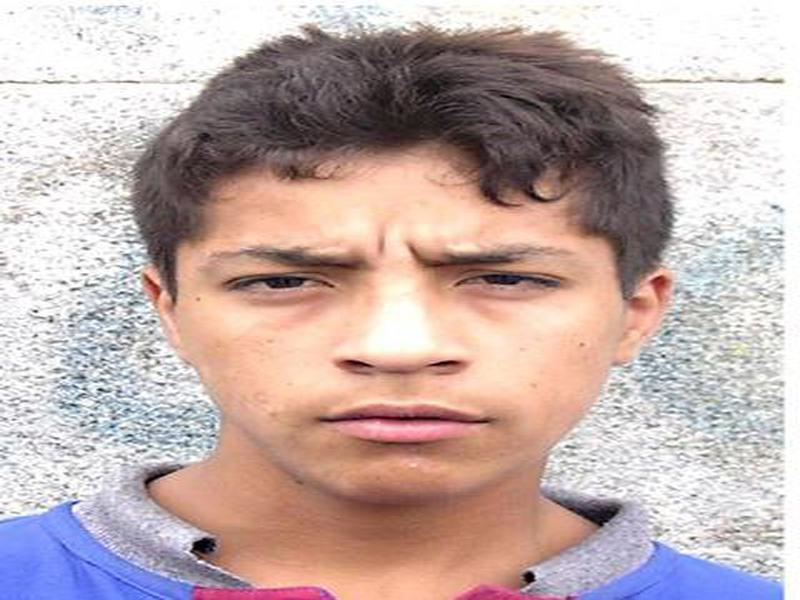without_mask: (168, 159, 619, 508)
